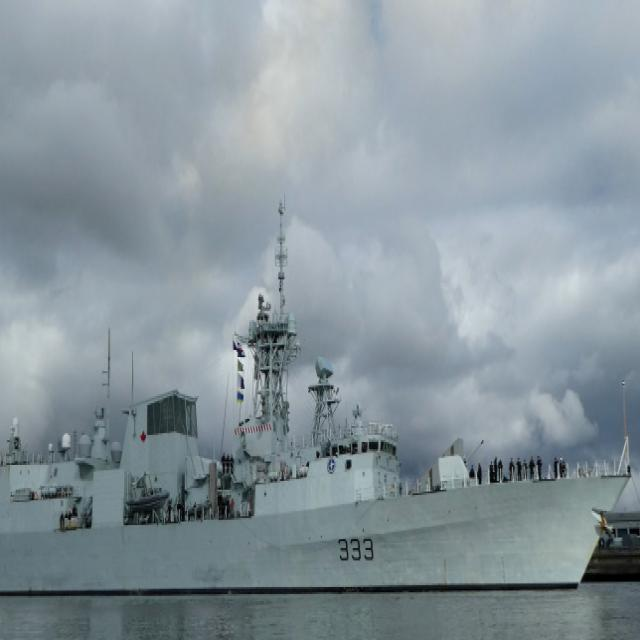Fragata: (1, 178, 636, 599)
